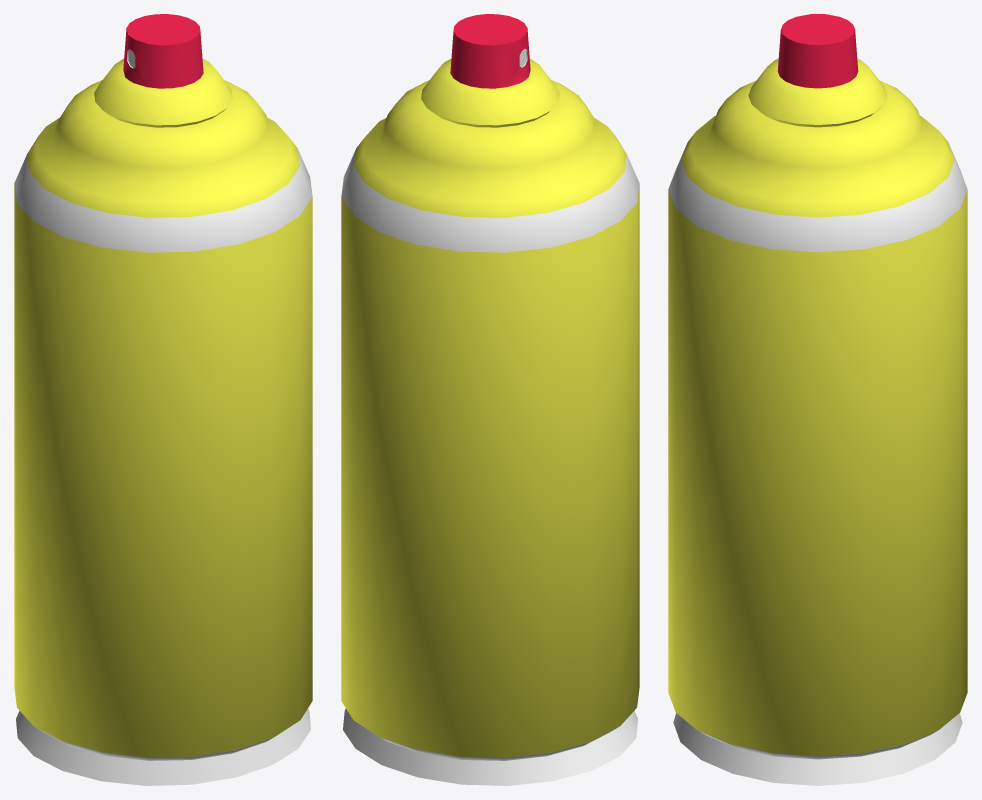
File: Color Spray.FBX
3 renders of one model, left to right at view 1: azimuth 30°, elevation 25°; view 2: azimuth 150°, elevation 25°; view 3: azimuth 270°, elevation 25°, orthographic.
Parts seen in each view (by area): view 1: Color Spray; view 2: Color Spray; view 3: Color Spray.
Part boxes in pixels (<box>): Color Spray: <box>14,14,312,785</box>; Color Spray: <box>341,14,639,785</box>; Color Spray: <box>668,14,967,785</box>.
Bounding box in the file's own units: 0.1239 × 0.3168 × 0.1239.
1 material, 1 textured.
